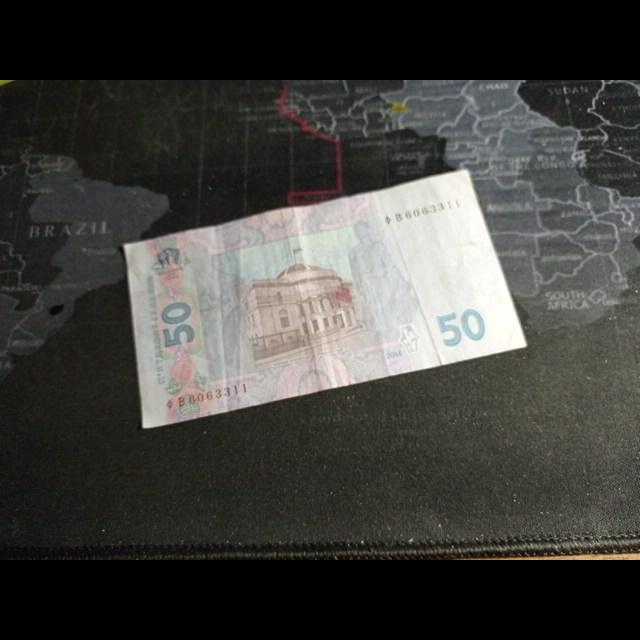50uah: (123, 171, 532, 430)
